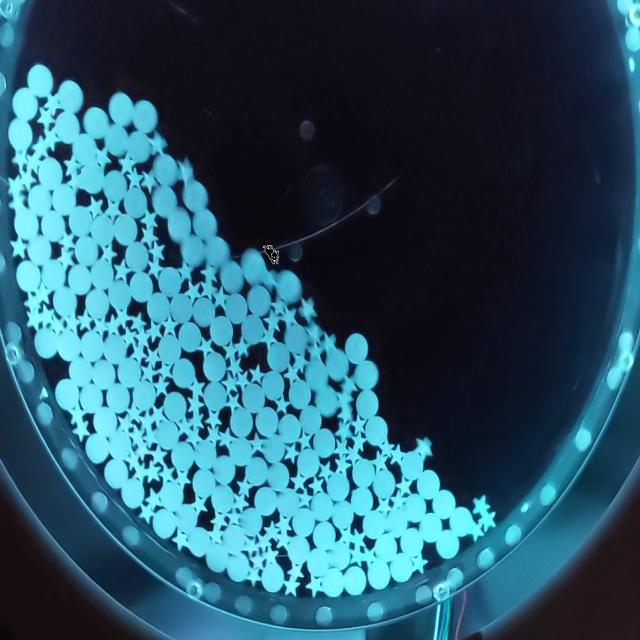disco blanco: (132, 96, 158, 133), (240, 246, 266, 283), (166, 206, 192, 242), (182, 180, 211, 212), (364, 410, 389, 447), (29, 62, 54, 98), (180, 233, 206, 267), (355, 386, 380, 421), (152, 154, 178, 187), (152, 186, 179, 217), (58, 80, 84, 112), (276, 270, 302, 302), (193, 210, 220, 240), (127, 129, 150, 164), (219, 261, 244, 293), (247, 285, 272, 317), (202, 350, 227, 382), (108, 91, 132, 124), (240, 314, 266, 344), (344, 333, 370, 363), (266, 342, 291, 373), (315, 382, 337, 417), (209, 316, 235, 345), (304, 360, 329, 390), (283, 322, 307, 353), (230, 407, 254, 438), (255, 405, 279, 436), (84, 106, 107, 138), (313, 428, 336, 460), (357, 358, 380, 390), (123, 188, 147, 218), (206, 236, 230, 266), (288, 378, 311, 409), (225, 294, 248, 324), (106, 124, 127, 156), (300, 404, 321, 436), (242, 382, 265, 411)
estrella blanca: (148, 128, 171, 159), (176, 152, 196, 187), (42, 89, 64, 117), (198, 259, 220, 286), (298, 294, 317, 325), (304, 320, 325, 346), (62, 154, 83, 180), (36, 106, 57, 132), (414, 434, 434, 460), (307, 338, 326, 364), (212, 285, 231, 311), (269, 292, 289, 316), (471, 493, 491, 517), (182, 279, 202, 302), (125, 163, 142, 190), (176, 260, 195, 284), (320, 331, 338, 356), (334, 420, 354, 442), (116, 152, 135, 175), (93, 147, 112, 170), (264, 309, 282, 333), (142, 209, 160, 233), (140, 169, 158, 193), (32, 135, 50, 159), (389, 441, 406, 466), (259, 326, 279, 347), (340, 374, 359, 396), (291, 350, 309, 373), (352, 413, 369, 437), (44, 126, 61, 150), (147, 242, 167, 262), (370, 452, 390, 472), (140, 226, 159, 247), (234, 336, 252, 358), (336, 388, 354, 410), (477, 508, 495, 530), (249, 361, 265, 385), (396, 474, 414, 495), (146, 257, 163, 279), (114, 258, 130, 281), (390, 489, 407, 510), (337, 404, 356, 422), (275, 394, 291, 415), (101, 241, 116, 263), (351, 432, 367, 452), (374, 496, 391, 514), (379, 438, 394, 458)
